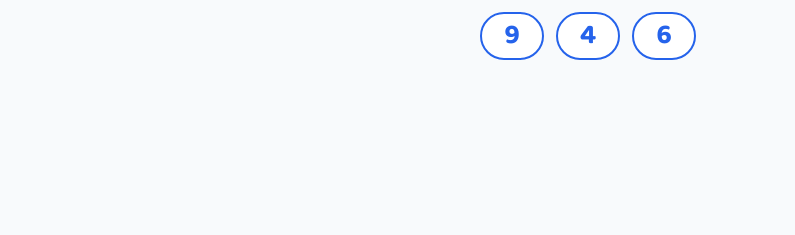
Test: addition and subtraction: make a round sum › judges the pair at once, marks a wrong number and holds Tiếp
Click the button "9" at (512, 36), box left=480, top=12, right=544, bottom=60
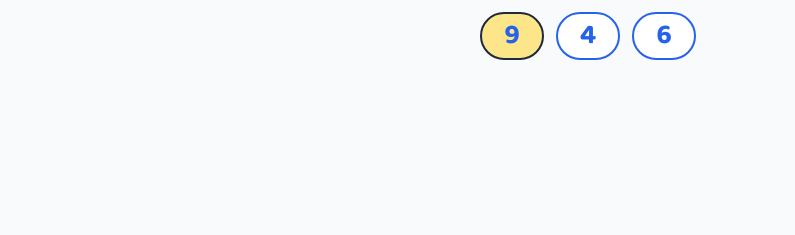
Click the button "4" at (588, 36), box left=556, top=12, right=620, bottom=60
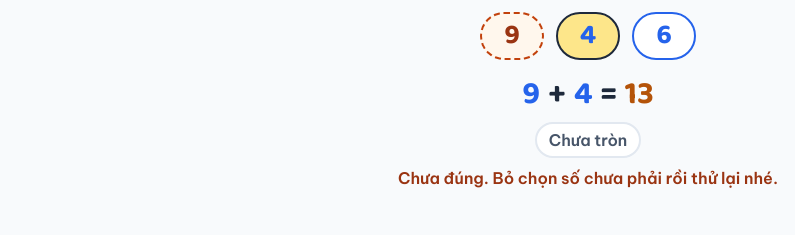
Now the text "Chưa đúng. Bỏ chọn số chưa phải rồi thử lại nhé." is shown, box left=398, top=166, right=778, bottom=190
